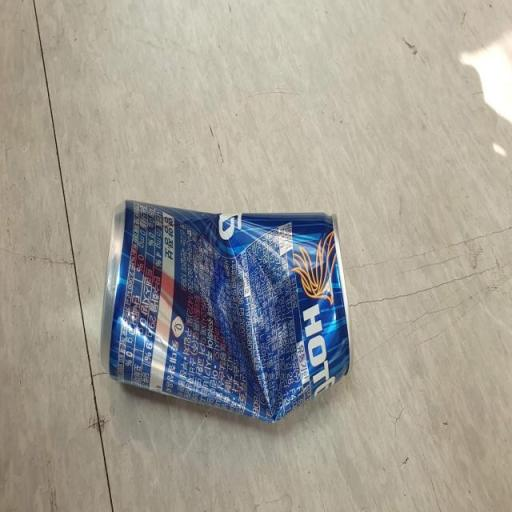metal: (84, 164, 368, 452)
